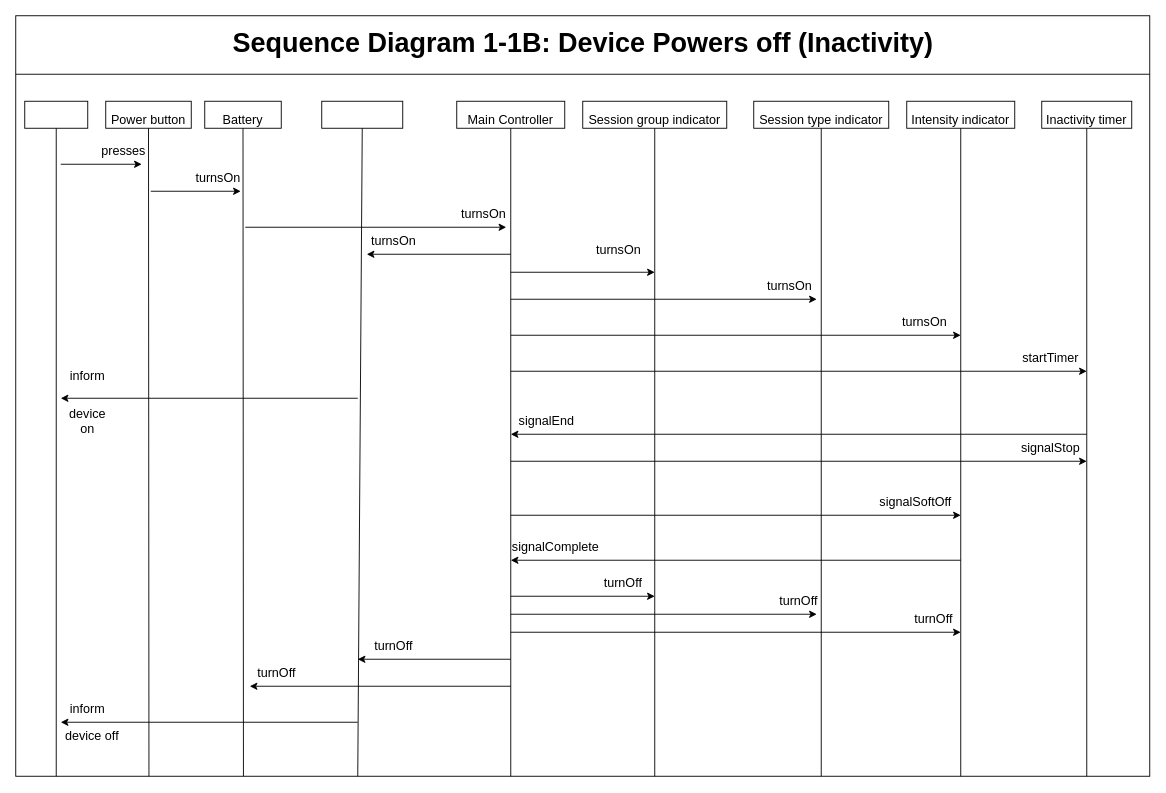
The diagram is 1166 pixels wide and 793 high, and some of its shapes have lost their labels. The shapes that lost their labels are listed below. From the top down, each one's box as (x1, y1, x2, y2) in pixels, then its label:
(24, 100, 88, 128): User
(321, 100, 403, 128): power LED
